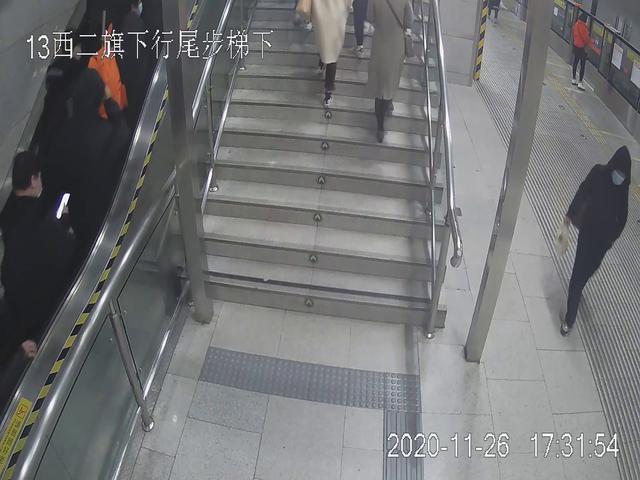person: (557, 142, 638, 341), (6, 147, 76, 317), (362, 1, 425, 143), (566, 11, 597, 92)
